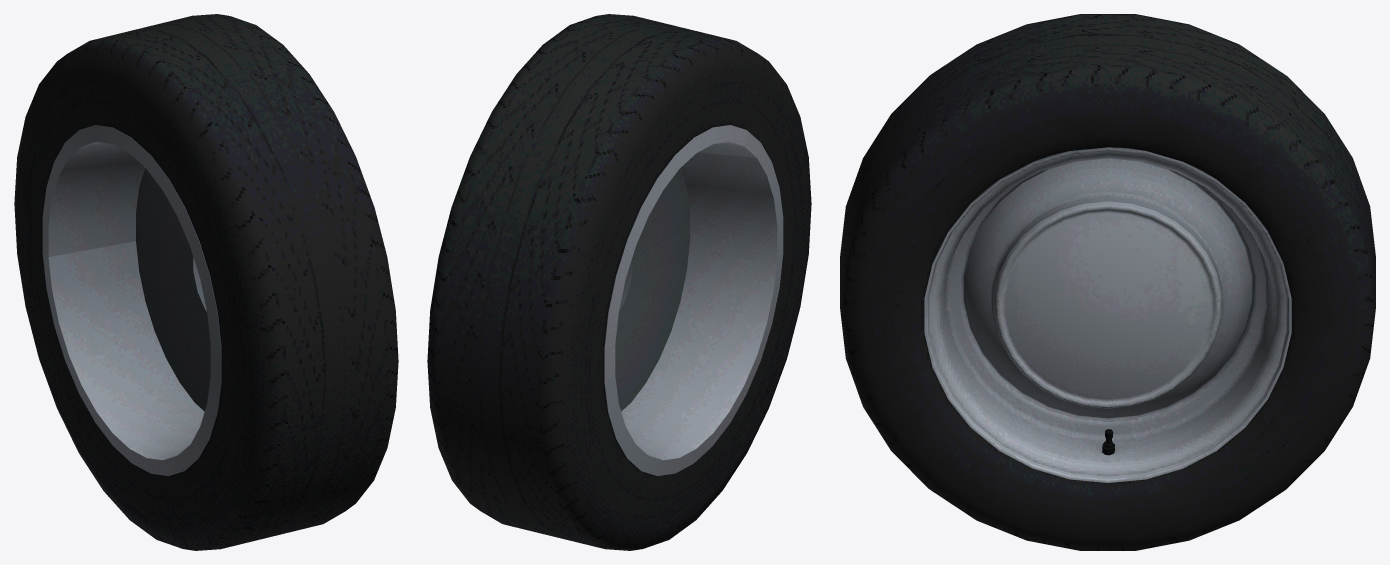
The model's file is wheel_rear_right.glb.
3 views of the same model, side by side, from view 1: azimuth 30°, elevation 25°; view 2: azimuth 150°, elevation 25°; view 3: azimuth 270°, elevation 25° (orthographic). The views are drawn at different scales.
Visible parts, largest first — view 1: wheel_rear_right; view 2: wheel_rear_right; view 3: wheel_rear_right.
Boxes of the visible parts, bbox=[...] form: wheel_rear_right: bbox=[14, 14, 398, 550]; wheel_rear_right: bbox=[427, 14, 811, 550]; wheel_rear_right: bbox=[840, 14, 1375, 550].
Size of the model in its own units: 0.1811 by 0.5361 by 0.5391.
1 material, 1 textured.
